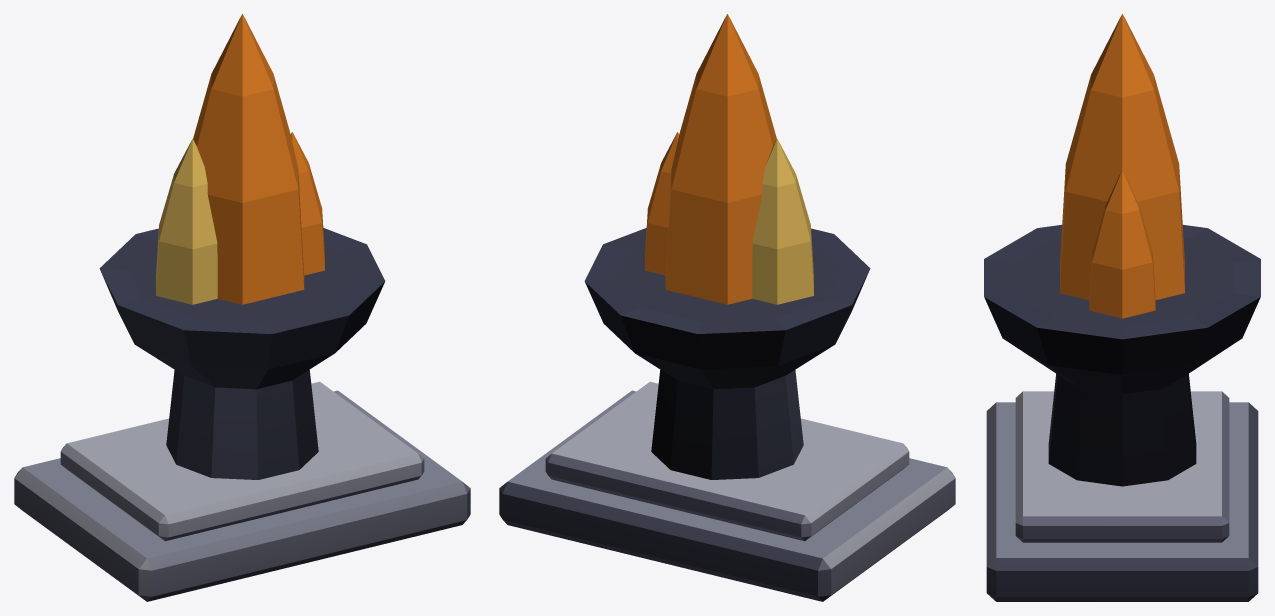
Rendered from gym_top_fire.glb.
3 views of the same model, side by side, from view 1: azimuth 30°, elevation 25°; view 2: azimuth 150°, elevation 25°; view 3: azimuth 270°, elevation 25° (orthographic).
Visible parts, largest first — view 1: gym_top_fire; view 2: gym_top_fire; view 3: gym_top_fire.
Boxes of the visible parts, x1=… form: gym_top_fire: x1=14, y1=14, x2=470, y2=601; gym_top_fire: x1=499, y1=14, x2=955, y2=601; gym_top_fire: x1=984, y1=14, x2=1260, y2=601.
Size of the model in its own units: 0.8 by 1.16 by 0.5706.
